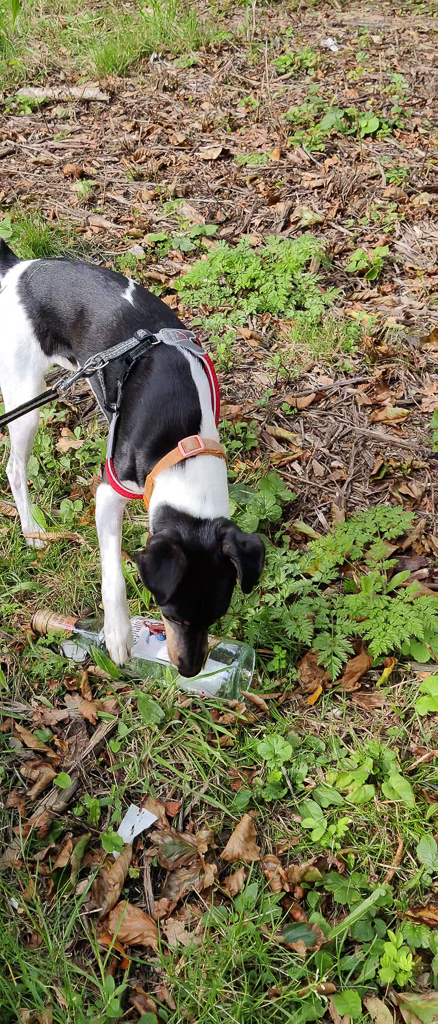Dog: (0, 213, 289, 700)
